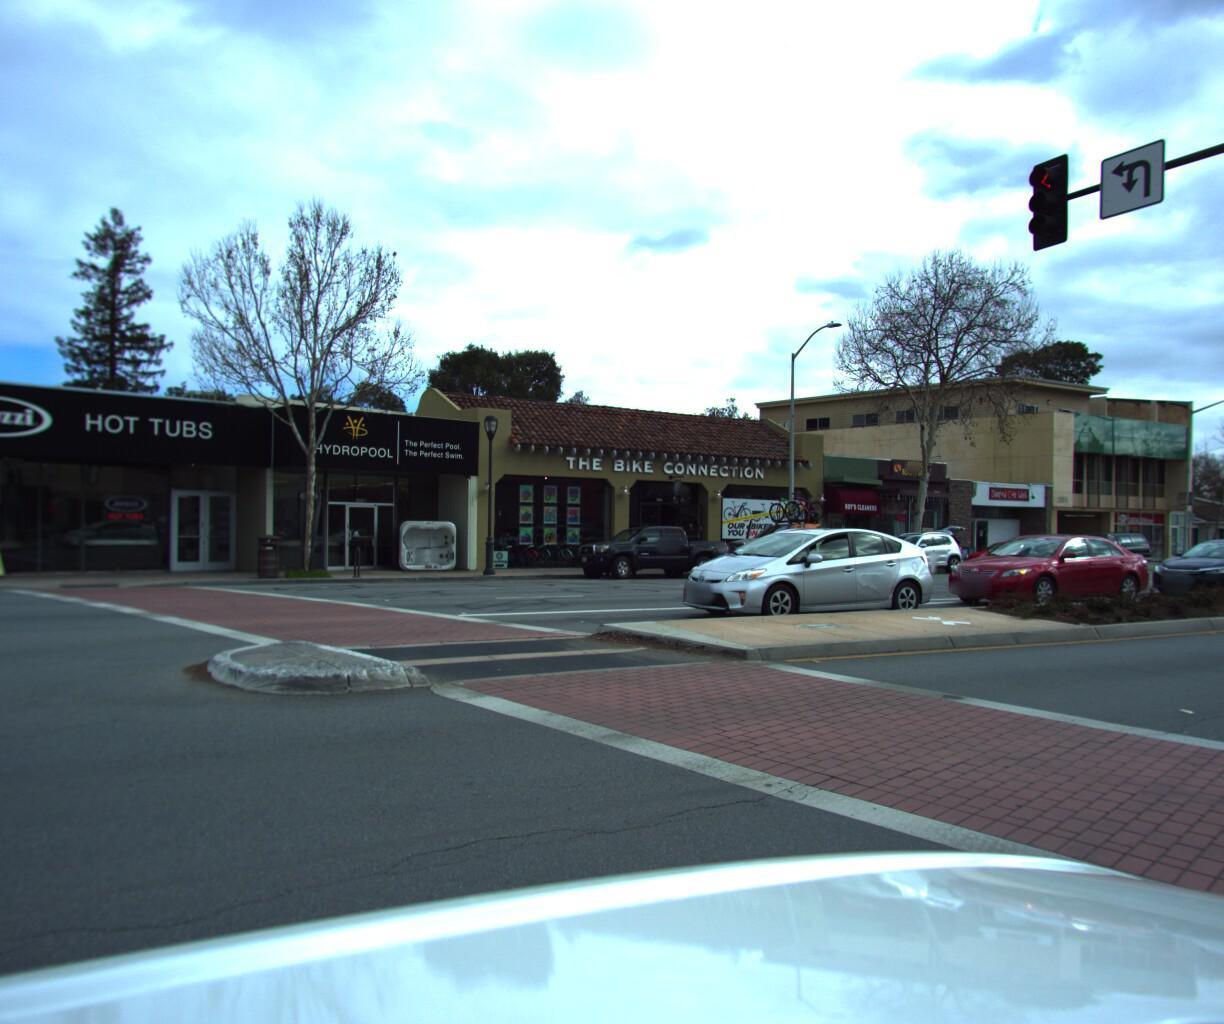car: (657, 519, 948, 628), (933, 524, 1158, 605), (713, 485, 876, 576), (562, 521, 733, 580), (855, 519, 972, 569), (1137, 528, 1224, 594), (954, 533, 1058, 569)
